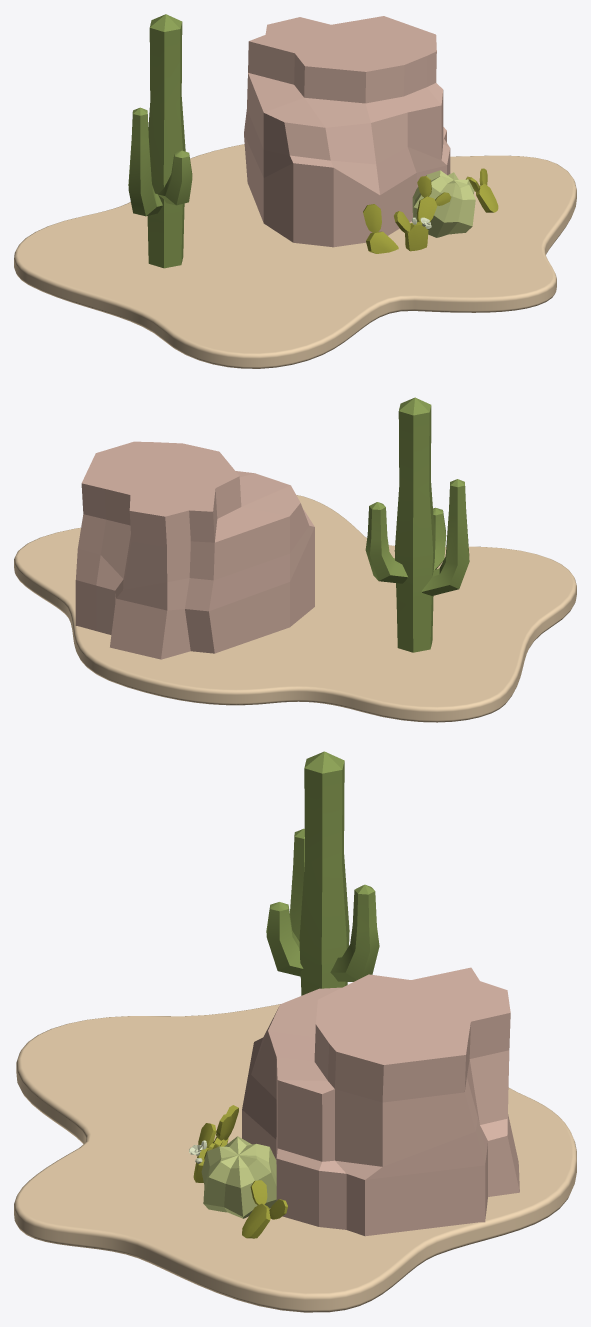
Rendered from desert.glb.
The picture shows the model from 3 angles, top to bottom: view 1: azimuth 30°, elevation 25°; view 2: azimuth 150°, elevation 25°; view 3: azimuth 270°, elevation 25°; orthographic projection. The views are drawn at different scales.
Parts seen in each view (by area): view 1: floor, stone, cactus, cactus-1, cactus-3; view 2: floor, stone, cactus; view 3: floor, stone, cactus, cactus-3, cactus-1.
Part boxes in pixels (box(x1,y1,x2,y2)): floor: box(14, 144, 576, 368); stone: box(244, 16, 450, 247); cactus: box(128, 14, 192, 268); cactus-1: box(363, 168, 498, 253); cactus-3: box(412, 170, 475, 237); floor: box(14, 495, 576, 722); stone: box(75, 441, 314, 659); cactus: box(365, 397, 469, 652); floor: box(14, 1004, 576, 1312); stone: box(242, 967, 519, 1236); cactus: box(266, 751, 379, 995); cactus-3: box(201, 1136, 276, 1218); cactus-1: box(193, 1105, 287, 1238).
Size of the model in its own units: 6.76 by 3.33 by 5.21.
